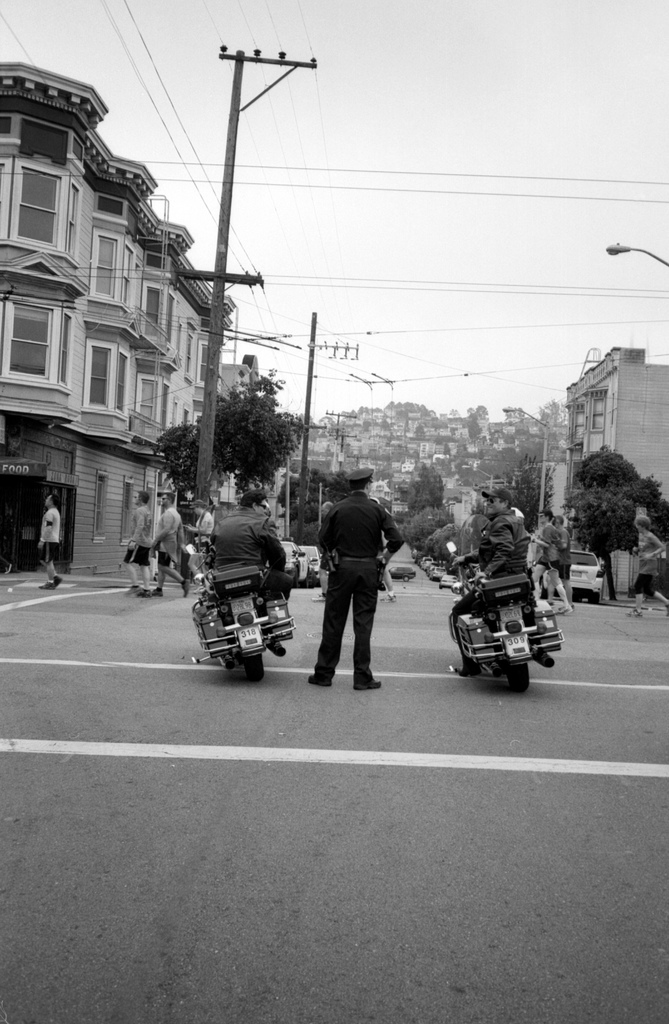Car: (421, 551, 482, 590), (561, 546, 603, 600), (281, 539, 310, 583), (389, 560, 419, 581), (298, 546, 317, 577), (438, 576, 458, 586), (431, 565, 447, 577)
